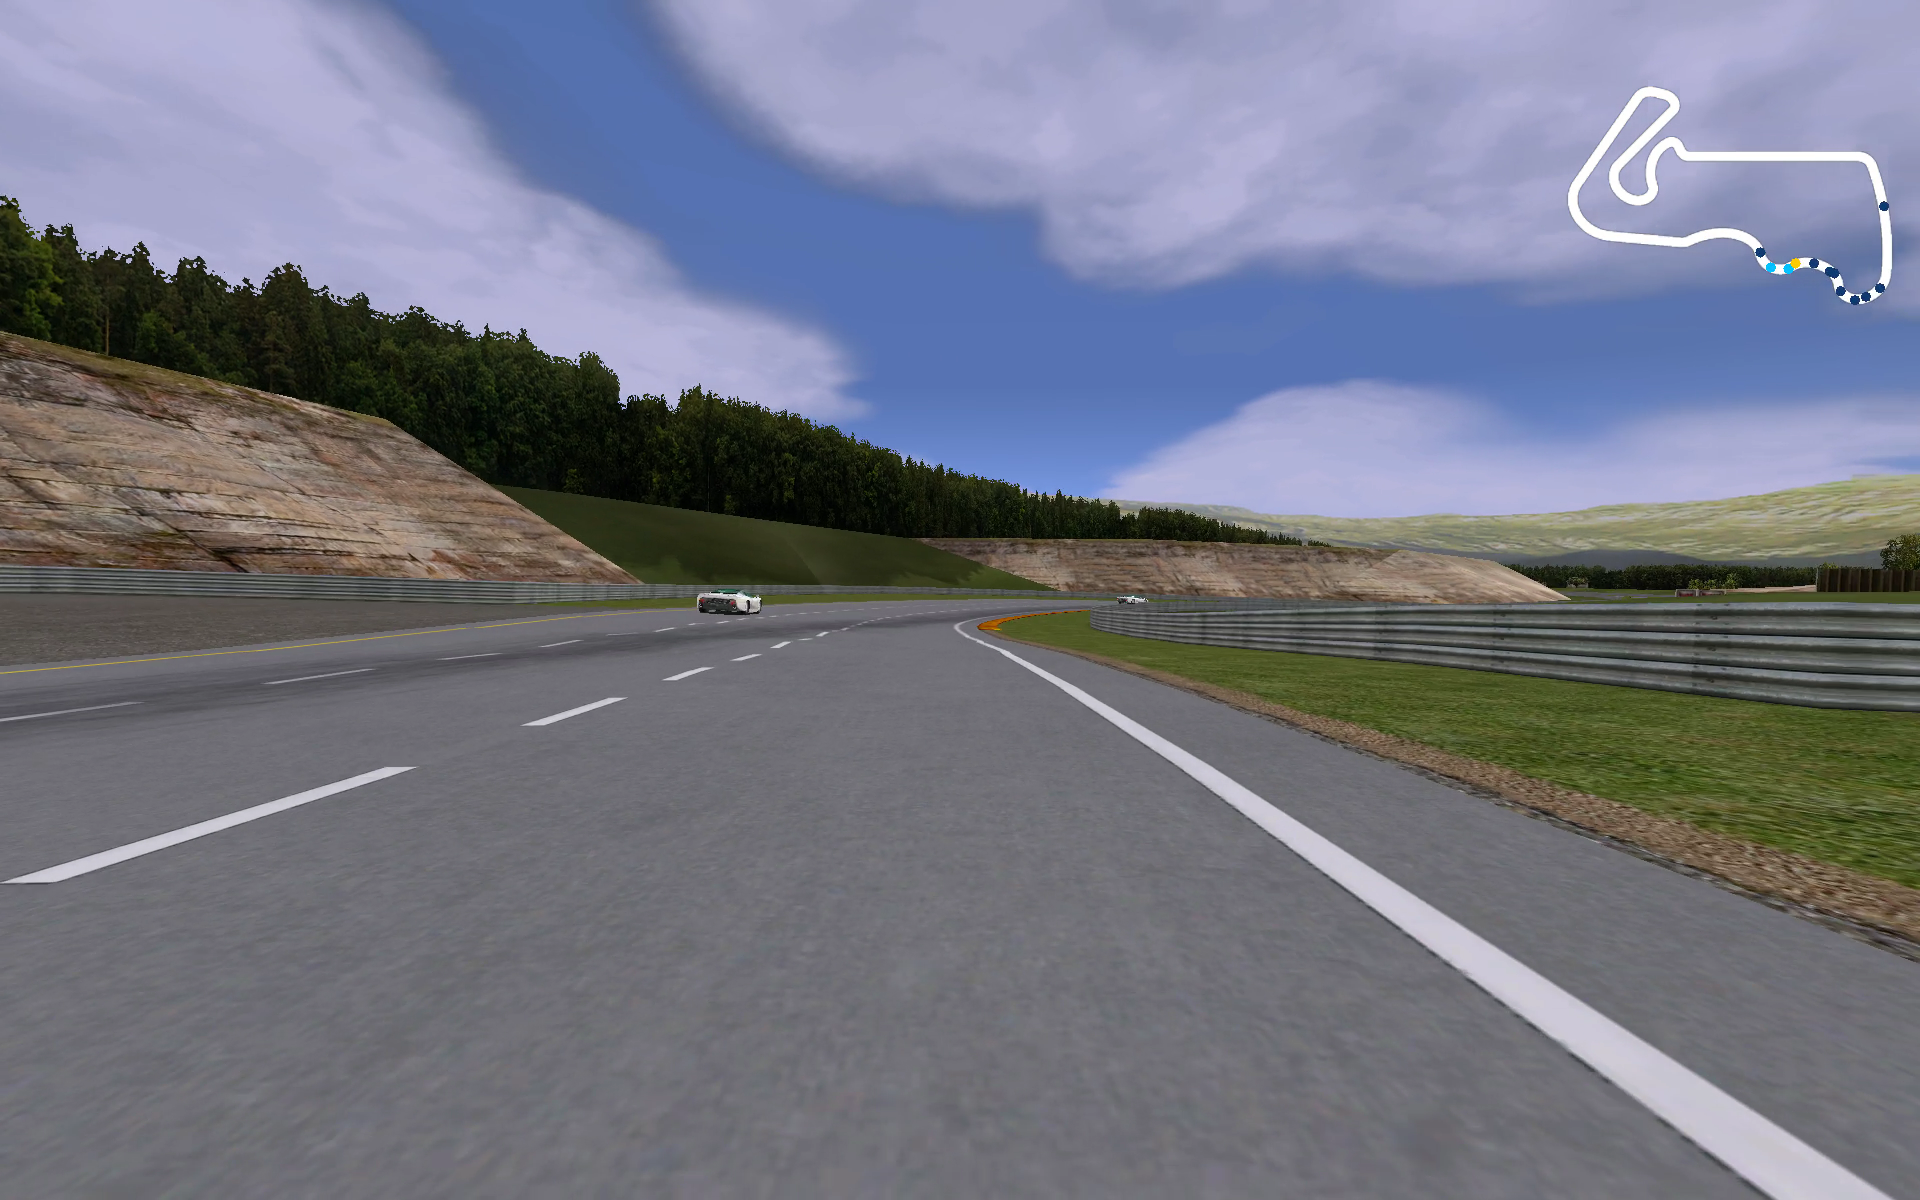car: (694, 589, 769, 619), (1114, 592, 1150, 606)
